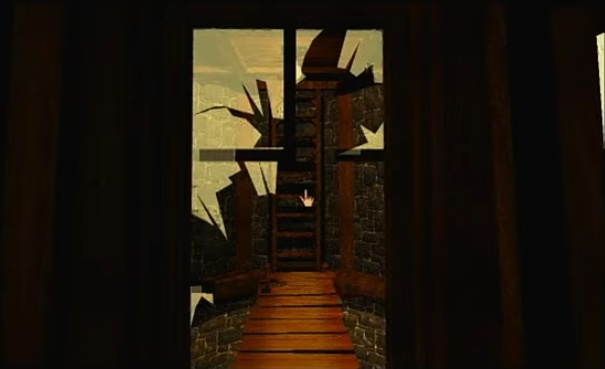Pointer: (296, 186, 318, 209)
